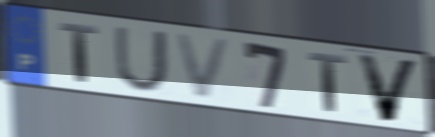7: (242, 38, 288, 111)
T: (57, 20, 101, 85), (306, 49, 349, 115)
U: (112, 25, 170, 95)
V: (354, 51, 423, 124), (171, 30, 235, 103)
